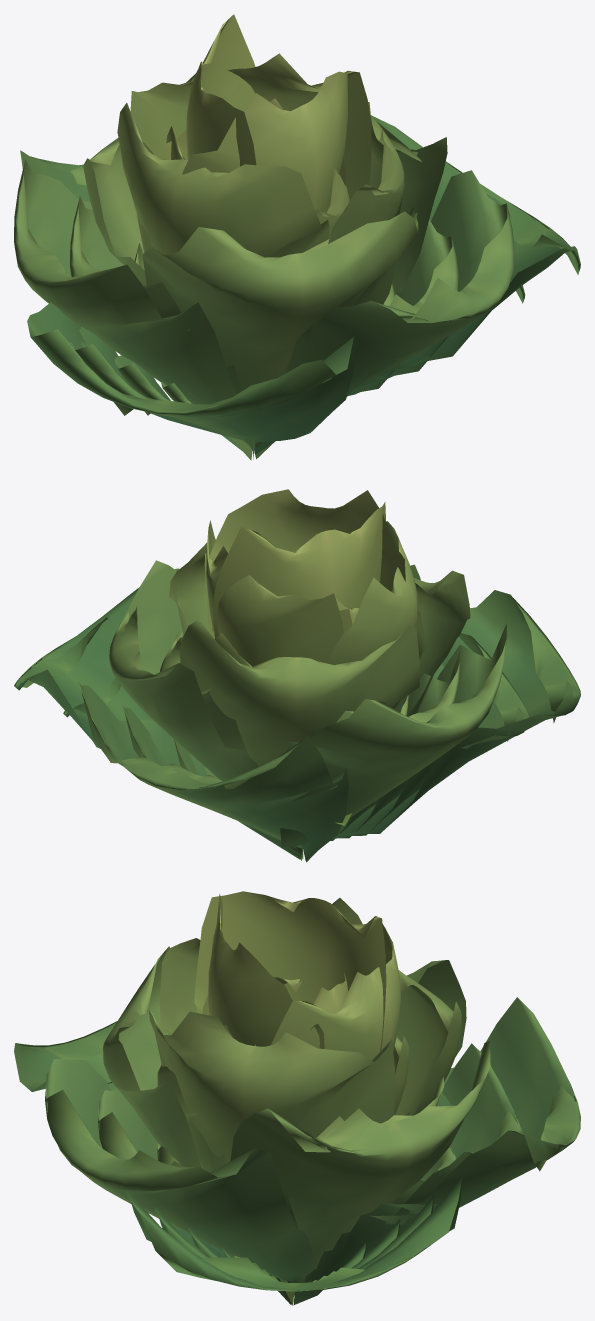
Rendered from lettuce.glb.
3 views of the same model, one above another, from view 1: azimuth 30°, elevation 25°; view 2: azimuth 150°, elevation 25°; view 3: azimuth 270°, elevation 25° (orthographic). The views are drawn at different scales.
Parts seen in each view (by area): view 1: Phase4, Phase3, Phase2; view 2: Phase4, Phase3, Phase2; view 3: Phase4, Phase3, Phase2.
Boxes of the visible parts, <box> form: Phase4: <box>14,14,580,460</box>; Phase3: <box>69,98,525,457</box>; Phase2: <box>114,243,459,453</box>; Phase4: <box>14,489,580,862</box>; Phase3: <box>63,598,529,859</box>; Phase2: <box>173,695,409,856</box>; Phase4: <box>14,891,580,1305</box>; Phase3: <box>98,972,521,1302</box>; Phase2: <box>157,1143,456,1298</box>.
Size of the model in its own units: 0.5928 by 0.4186 by 0.5385.
